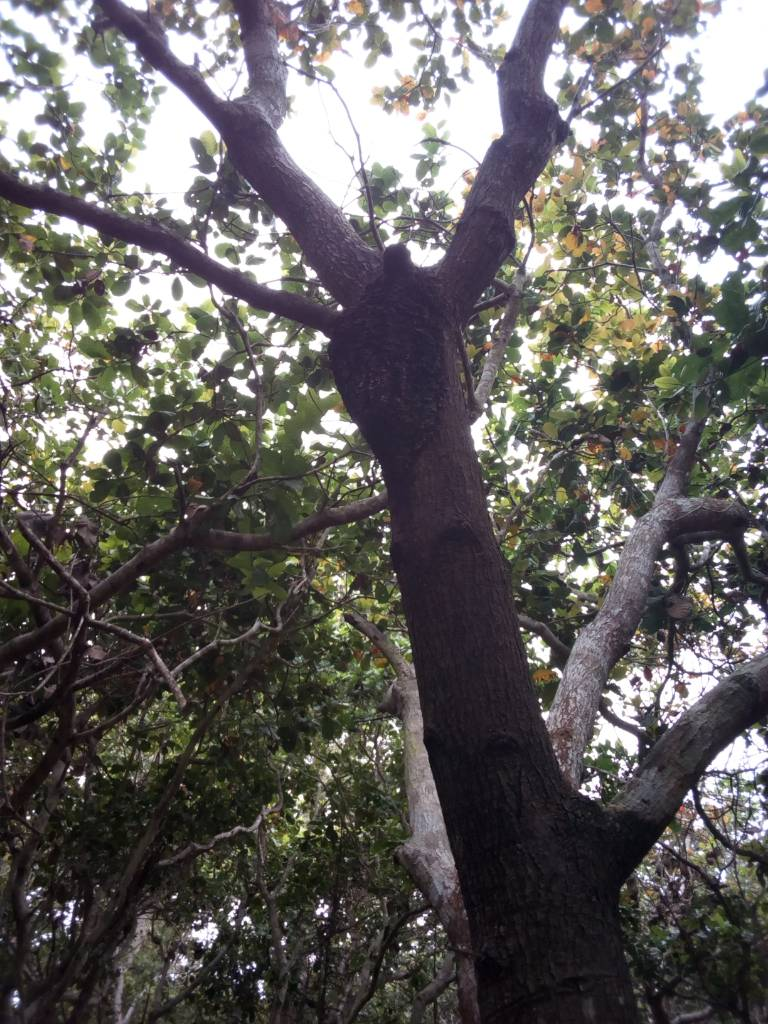Termites: (332, 246, 443, 442)
